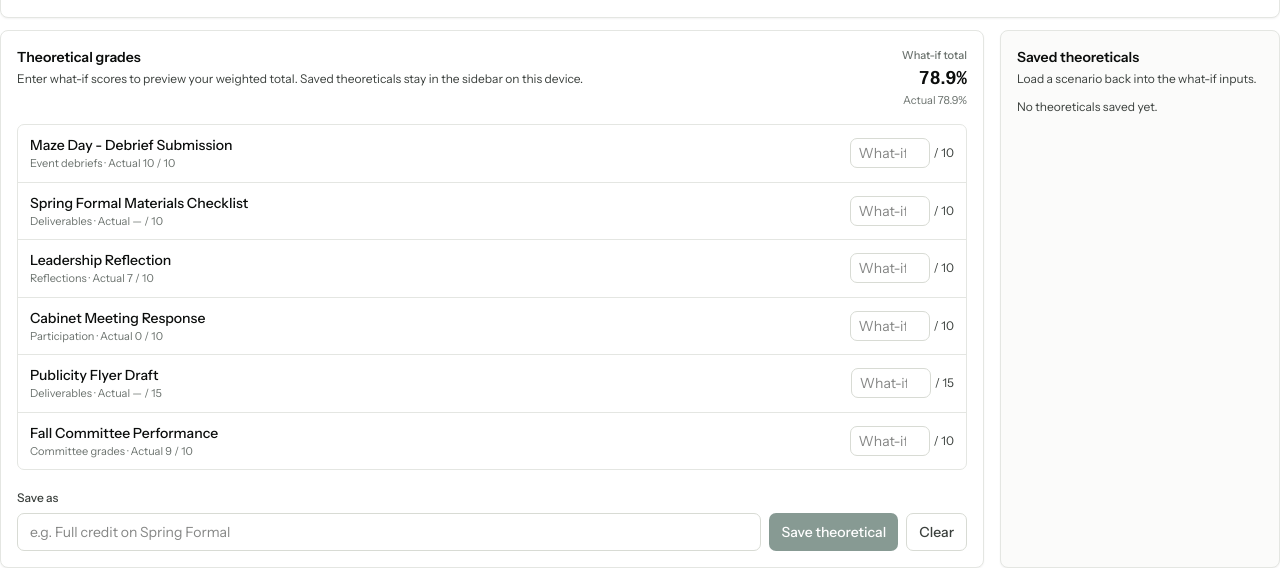
Scenario: GradesPage › lets students enter theoretical grades and save them to the sidebar
(page scrolled)
Expected: the heading "Theoretical grades" is shown, [17,48,141,66]
Expected: the element "Saved theoreticals" is shown, [1000,30,1279,567]
Type "10" into the number field with test id "theoretical-score-entry-spring-materials" at (890, 211), box [850,196,930,226]
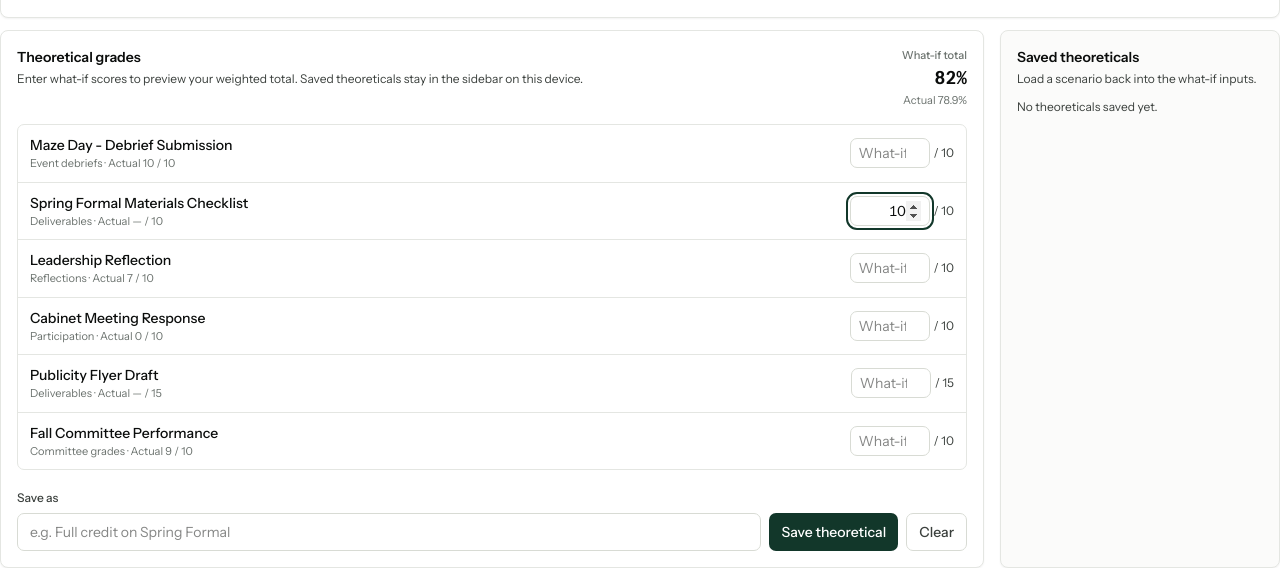
Type "Full credit on Spring Formal" into the field labelled "Save as" at (389, 532), box [17,512,762,550]
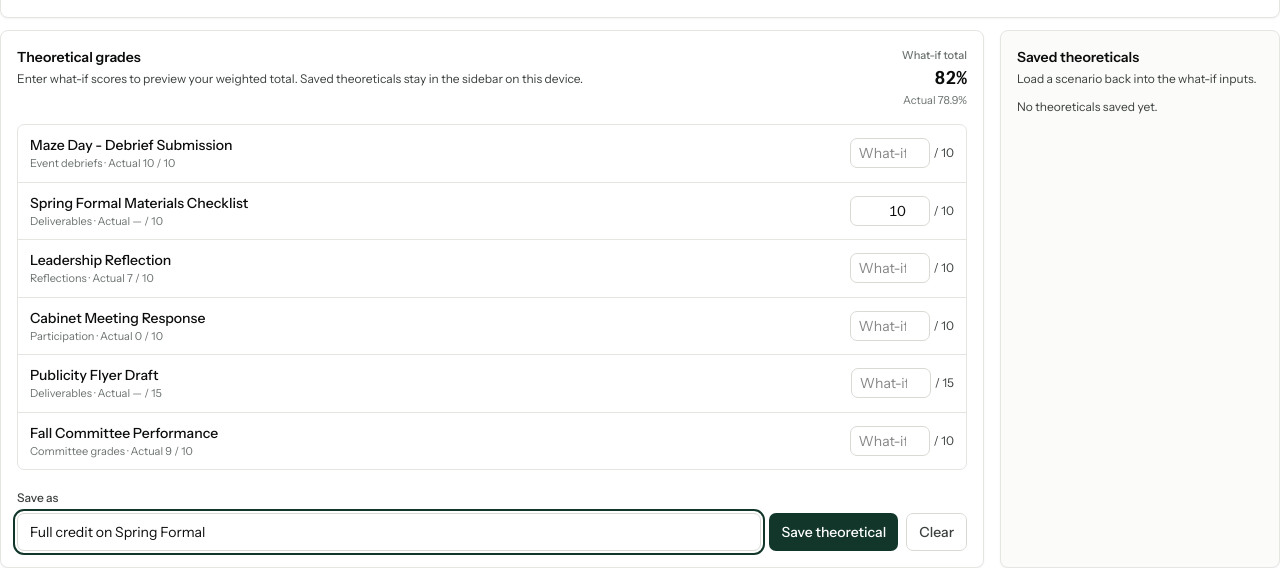
Click the button with test id "save-theoretical" at (834, 532), box [770,512,898,550]
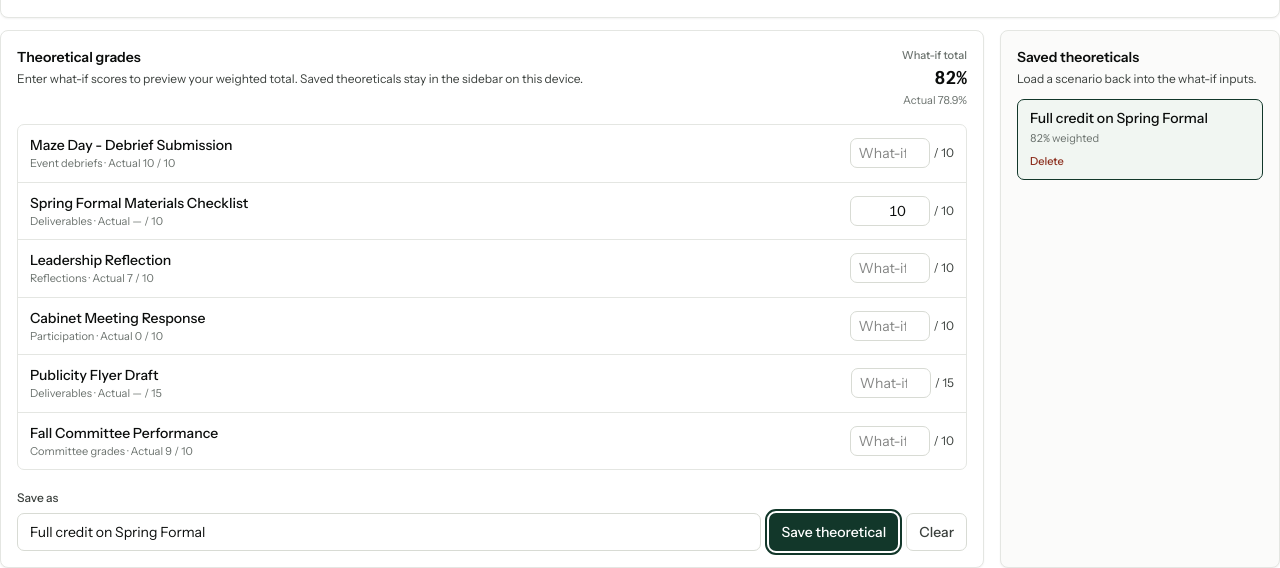
Result: the text "Full credit on Spring Formal" is shown at [1030,109,1208,127]
